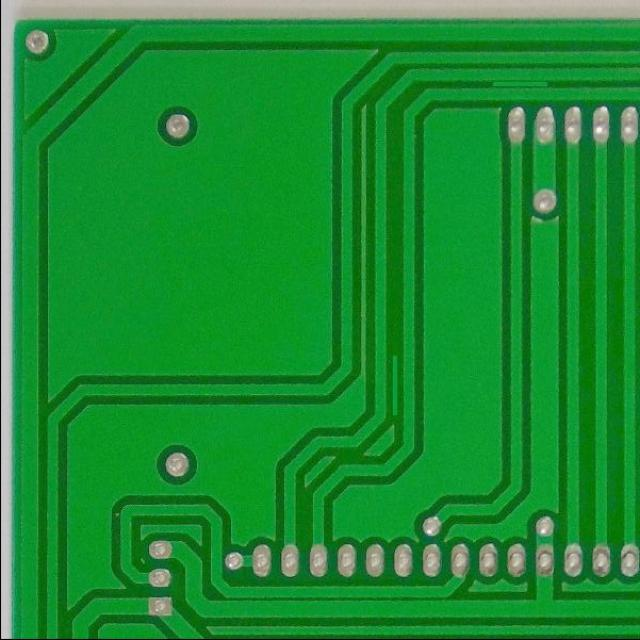Spurious_Cooper: (386, 352, 402, 418), (488, 75, 550, 88)
